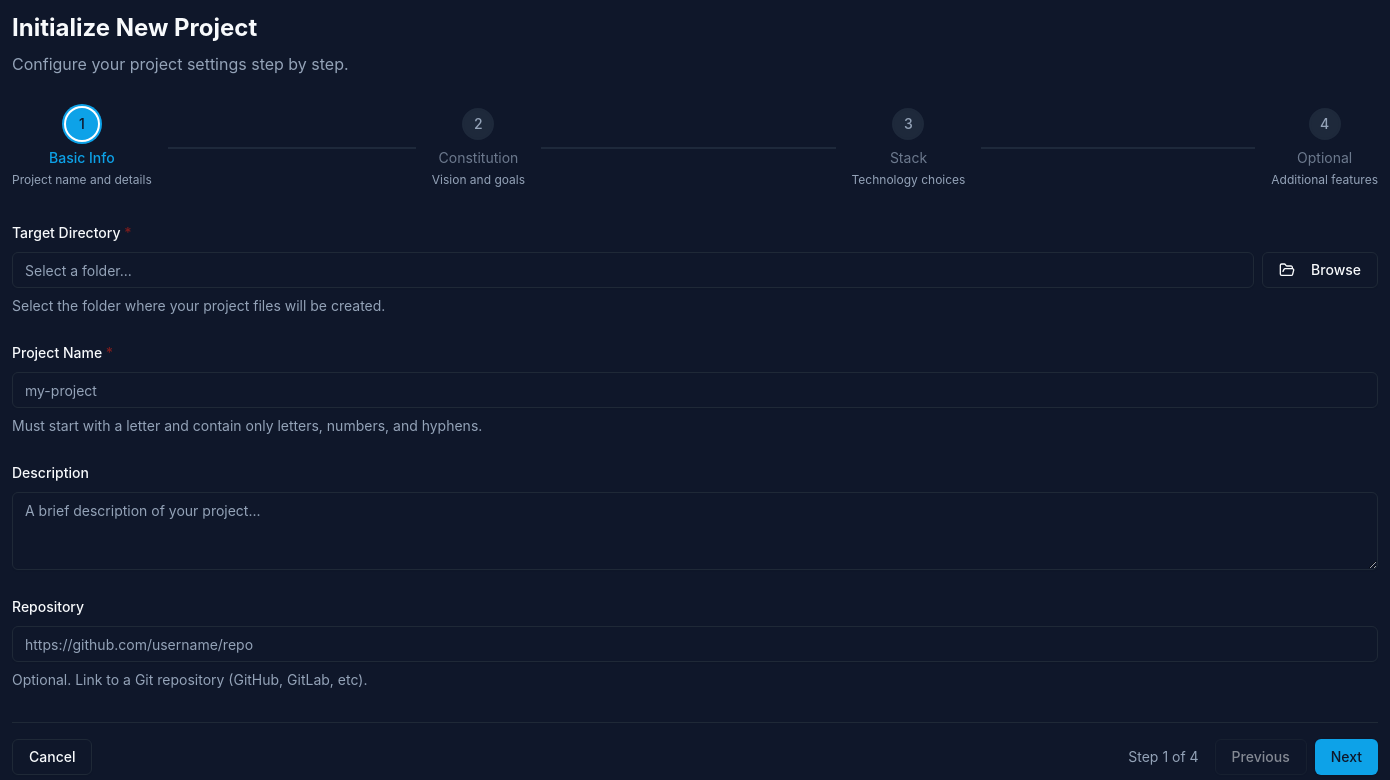
Scenario: ProjectWizard Scaffolding Integration › Folder Selection Integration › should display selected folder path after selection
Step 1. Click the button "Browse" → [1320, 270], box [1262,252,1378,288]
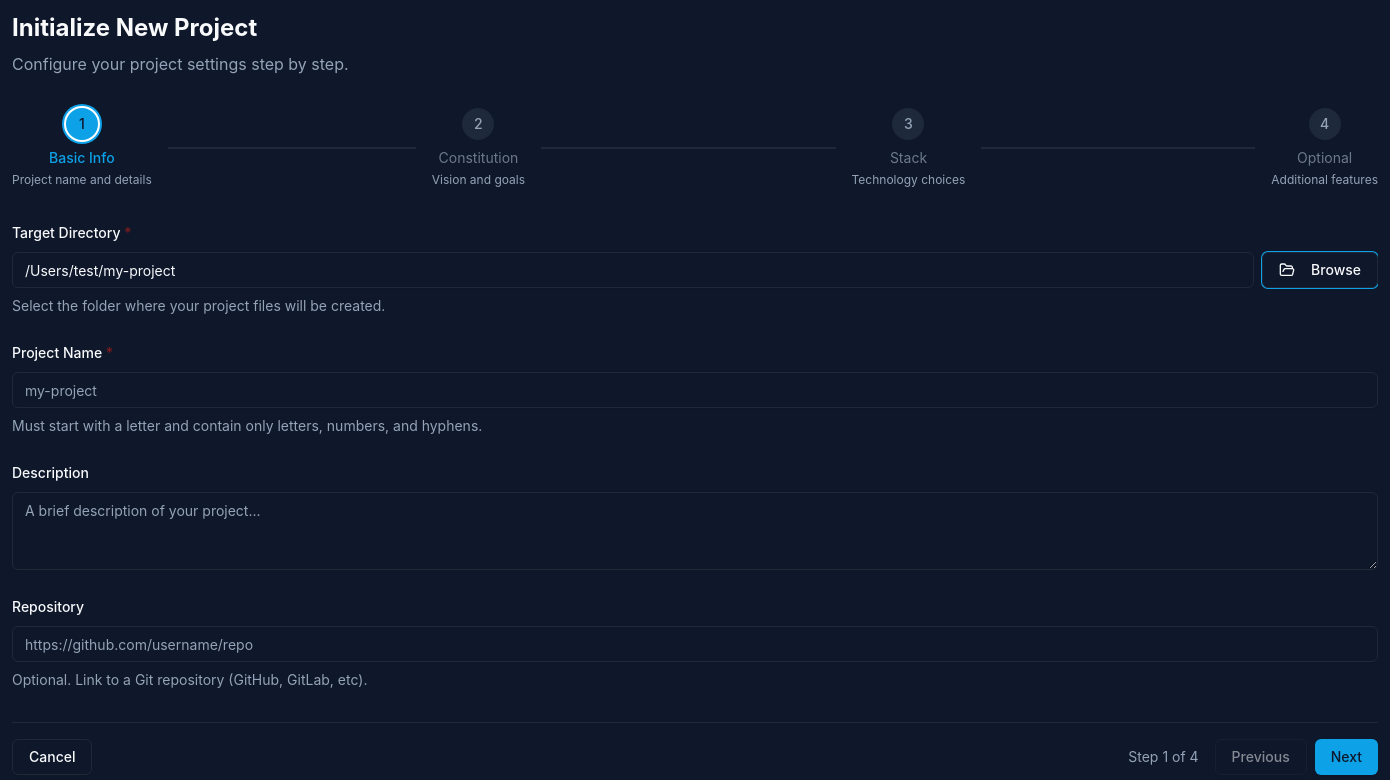
Result: the field showing "/Users/test/my-project" is shown at [12,252,1254,288]
